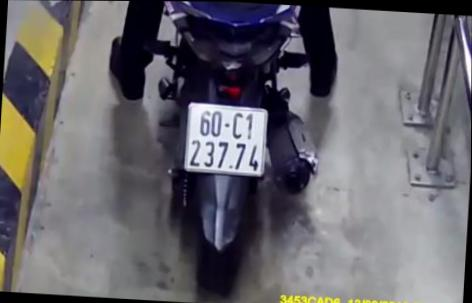LP: (183, 102, 269, 178)
